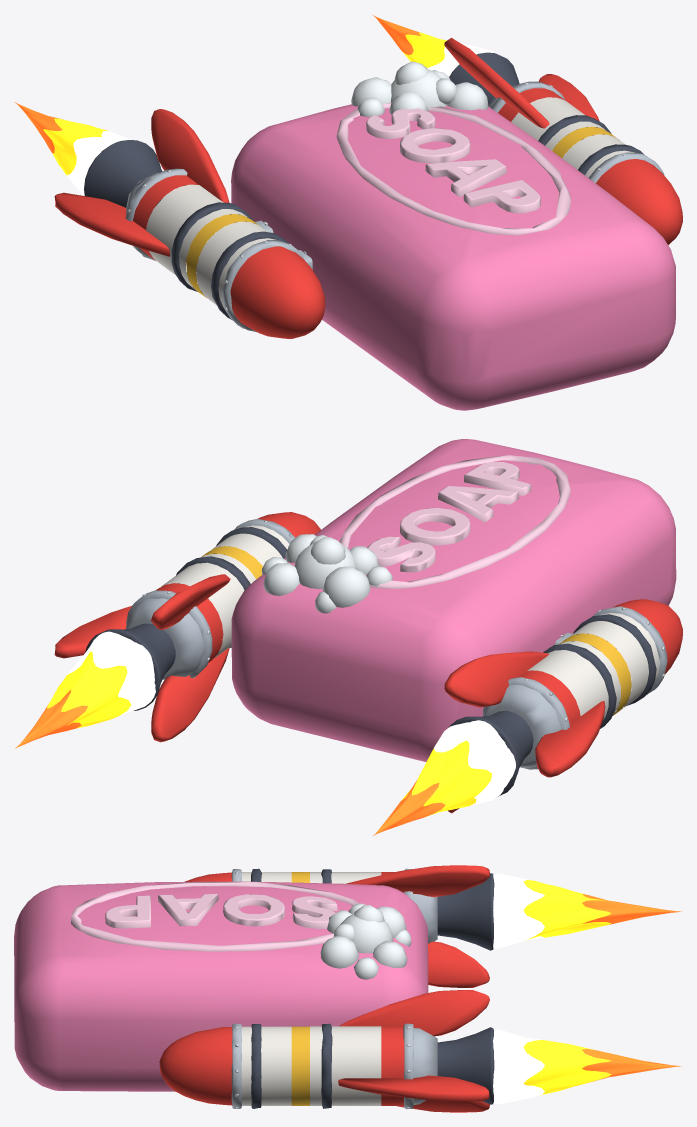
File: soap-rocket-lo.glb
3 renders of one model, top to bottom at view 1: azimuth 30°, elevation 25°; view 2: azimuth 150°, elevation 25°; view 3: azimuth 270°, elevation 25°, orthographic. The views are drawn at different scales.
Parts seen in each view (by area): view 1: Soap, Booster_Left, Booster_Right, Soap_Suds, Booster_Brackets, Flame_Left, Flame_Right; view 2: Soap, Booster_Left, Booster_Right, Flame_Right, Flame_Left, Soap_Suds, Booster_Brackets; view 3: Soap, Booster_Right, Booster_Left, Flame_Left, Flame_Right, Soap_Suds, Booster_Brackets.
Boxes of the visible parts, <box> form: Soap: <box>231,102,675,410</box>; Booster_Left: <box>54,109,325,338</box>; Booster_Right: <box>444,37,682,244</box>; Soap_Suds: <box>351,61,488,116</box>; Booster_Brackets: <box>171,115,644,320</box>; Flame_Left: <box>15,102,131,195</box>; Flame_Right: <box>372,14,495,76</box>; Soap: <box>231,439,676,761</box>; Booster_Left: <box>444,599,682,813</box>; Booster_Right: <box>54,512,320,742</box>; Flame_Right: <box>15,631,155,748</box>; Flame_Left: <box>373,720,515,835</box>; Soap_Suds: <box>261,534,392,613</box>; Booster_Brackets: <box>176,527,656,728</box>; Soap: <box>14,881,428,1091</box>; Booster_Right: <box>159,990,494,1112</box>; Booster_Left: <box>184,865,494,987</box>; Flame_Left: <box>493,873,681,948</box>; Flame_Right: <box>493,1029,681,1104</box>; Soap_Suds: <box>320,903,411,979</box>; Booster_Brackets: <box>251,868,332,1108</box>.
Bounding box in the file's own units: 1.25 × 0.4497 × 1.61.
